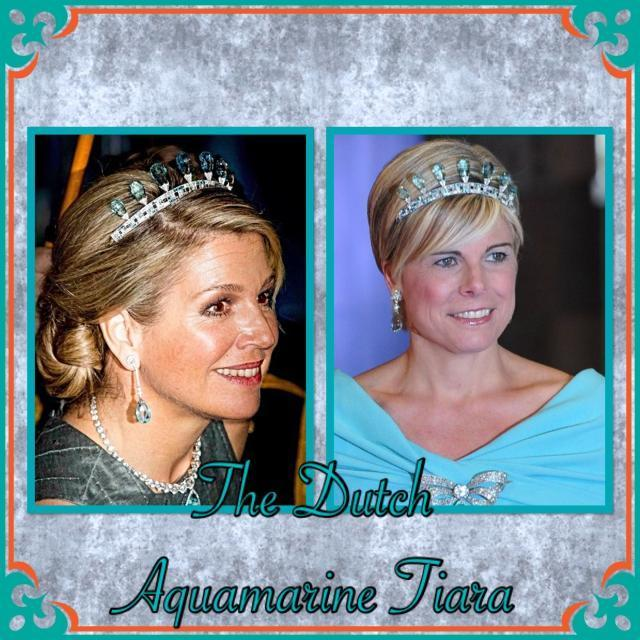Earring: (124, 360, 156, 430), (387, 280, 409, 336)
